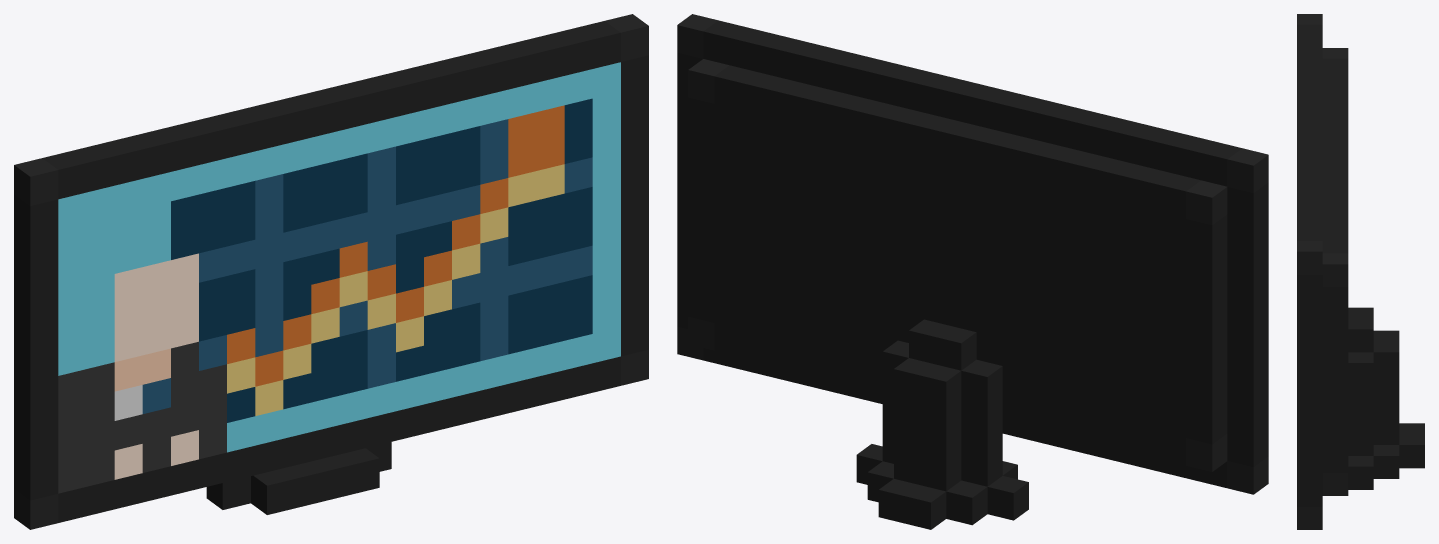
The picture shows the model from 3 angles, left to right: view 1: azimuth 30°, elevation 25°; view 2: azimuth 150°, elevation 25°; view 3: azimuth 270°, elevation 25°; orthographic projection. The views are drawn at different scales.
Parts seen in each view (by area): view 1: Node; view 2: Node; view 3: Node.
Boxes of the visible parts, x1,y1,x2,y2 form: Node: [14, 14, 648, 529]; Node: [677, 14, 1268, 529]; Node: [1297, 14, 1424, 529].
Bounding box in the file's own units: 2.2 × 1.4 × 0.5.
1 material, 1 textured.
